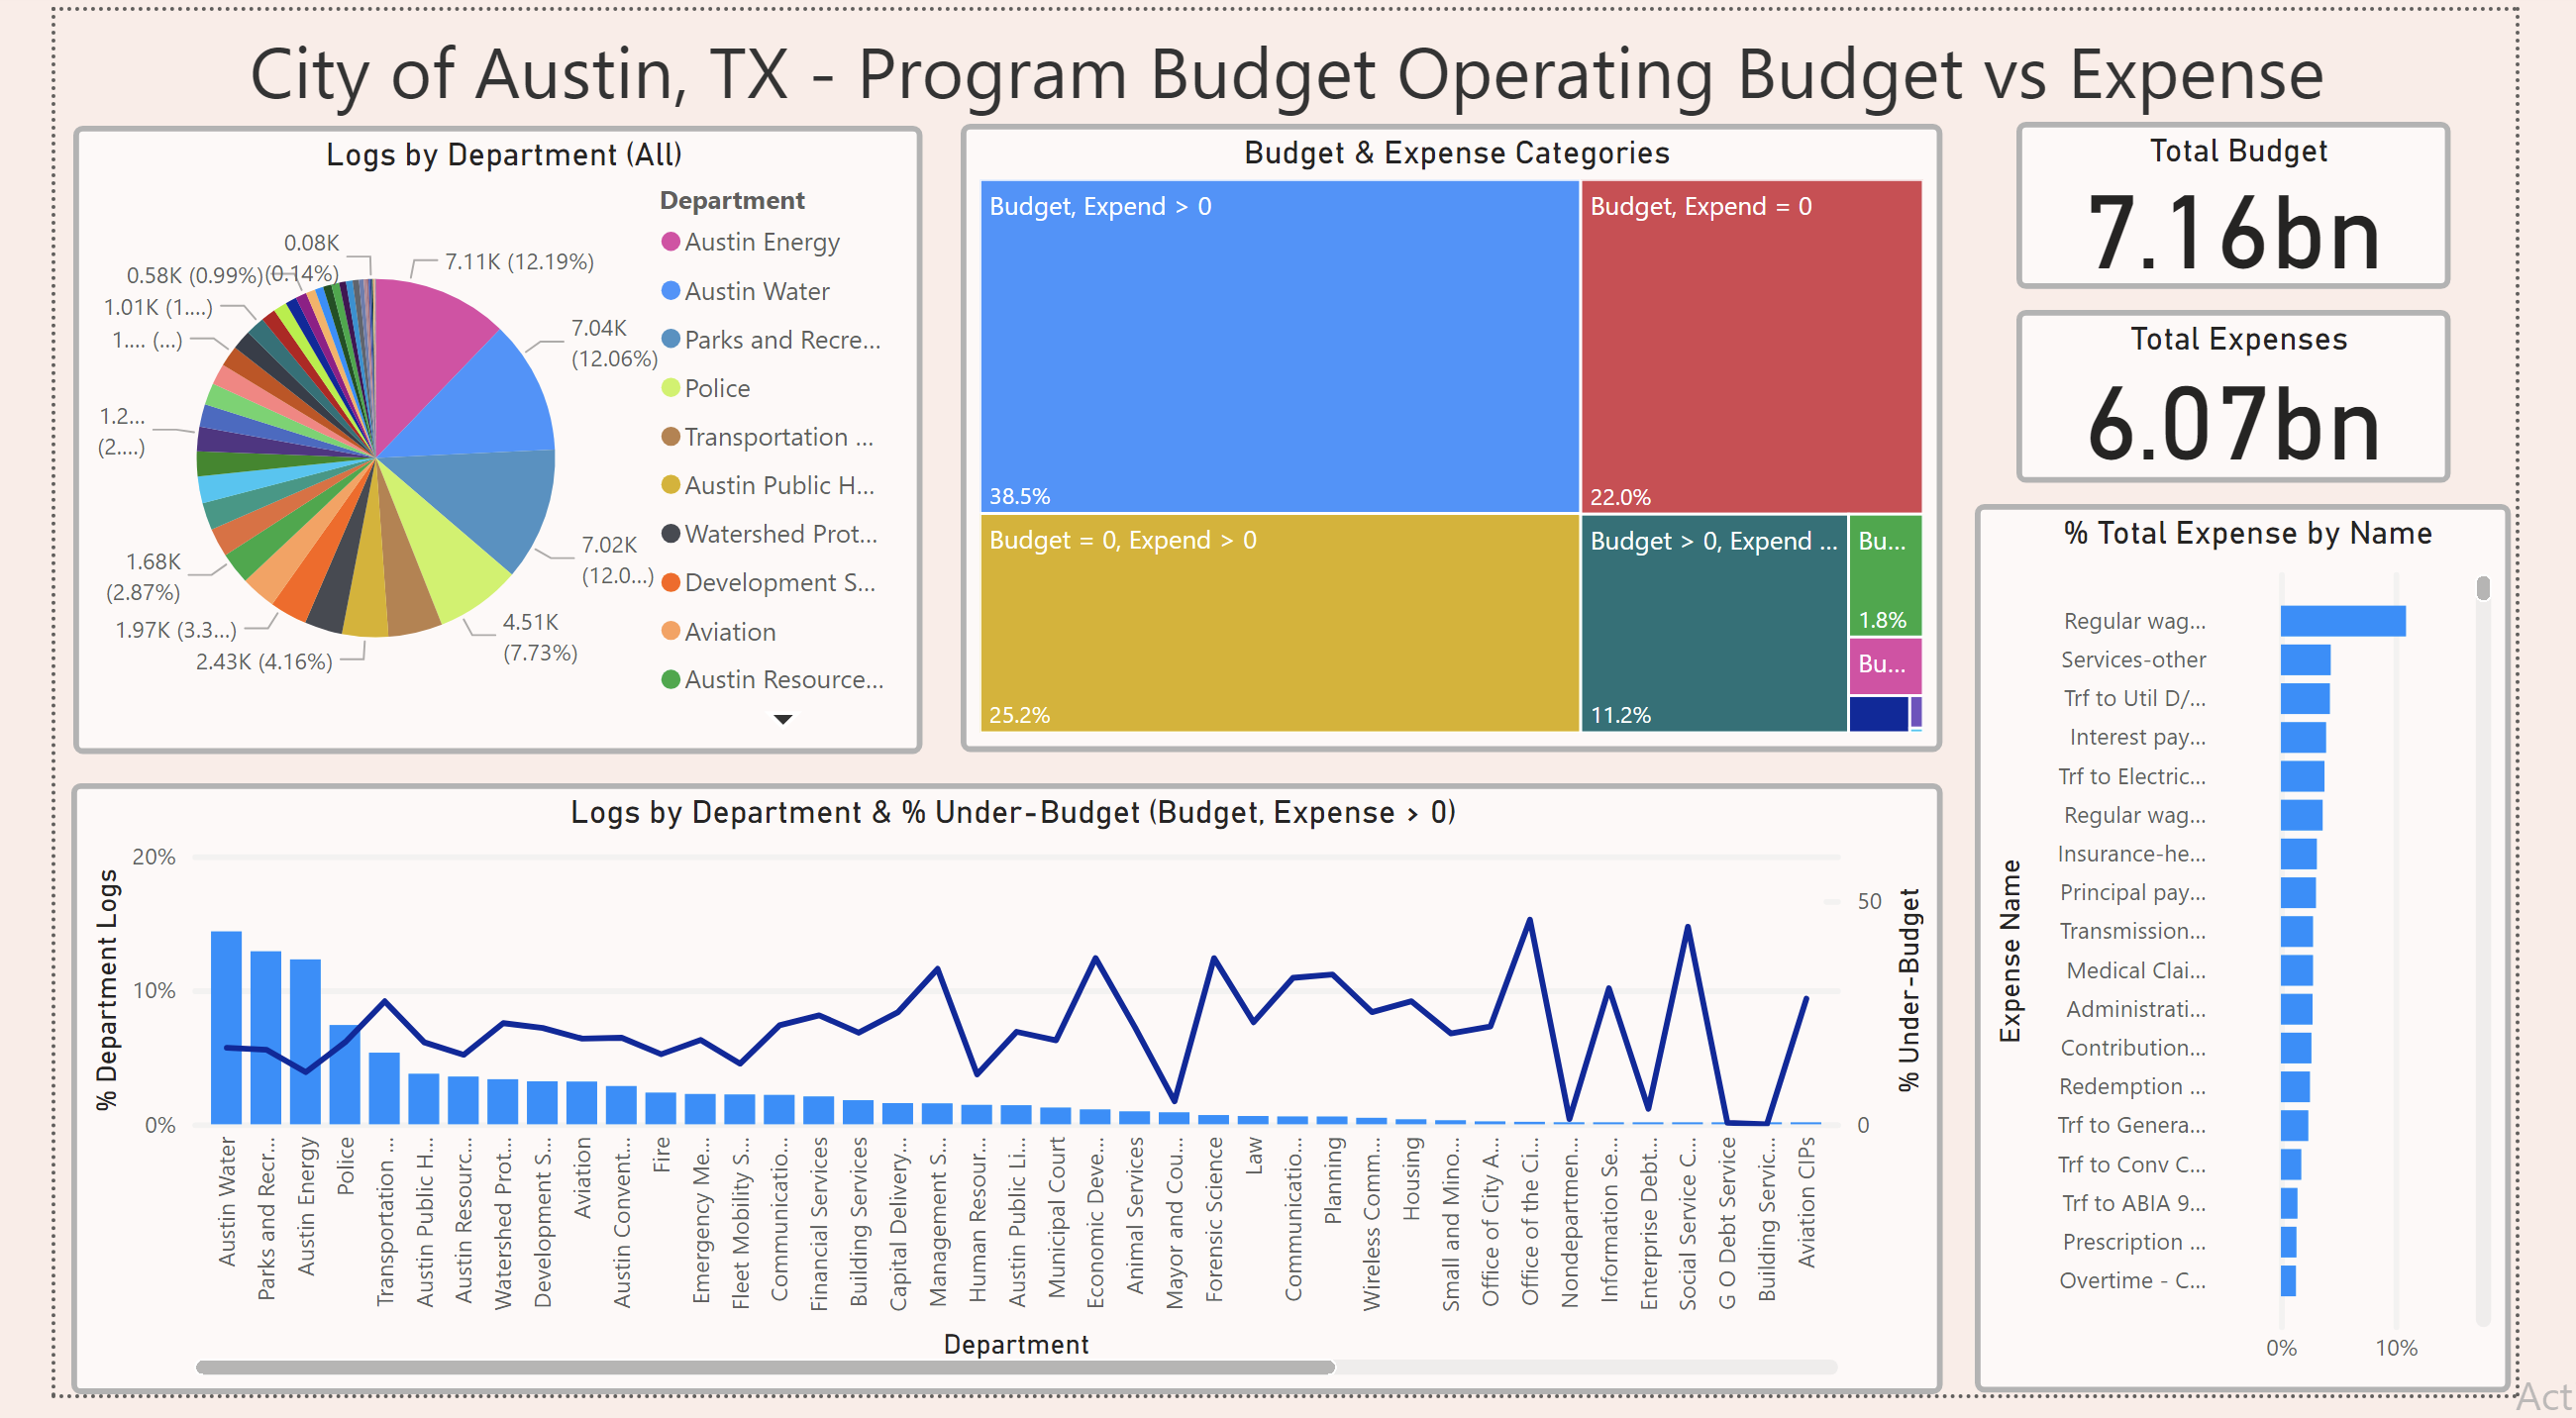

This screenshot's page, from the dashboard's own definition file:
{"tool":"powerbi","page":{"name":"Mini-Dashboard","canvas":[1280,720],"ordinal":0},"visuals":[{"type":"pieChart","title":"Logs by Department (All)","fields":{"Category":["AustinTXData budget.DEPARTMENT_NAME"],"Y":["CountNonNull(AustinTXData budget.DEPARTMENT_NAME)"]},"box":[9,60,442,327],"z":0},{"type":"treemap","title":"Budget & Expense Categories","fields":{"Group":["AustinTXData budget.BudgetExpendCateg"],"Values":["CountNonNull(AustinTXData budget.BudgetExpendCateg)"]},"box":[471,59,511,327],"z":1000},{"type":"barChart","title":"% Total Expense by Name","fields":{"Category":["AustinTXData budget.EXPENSE_NAME"],"Y":["Divide(Sum(AustinTXData budget.EXPENDITURES), ScopedEval(Sum(AustinTXData budget.EXPENDITURES), []))"]},"box":[998.8,256.2,278.8,462.5],"z":2000},{"type":"lineStackedColumnComboChart","title":"Logs by Department & % Under-Budget  (Budget, Expense > 0)","fields":{"Category":["AustinTXData budget.DEPARTMENT_NAME"],"Y2":["AustinTXData budget.PercUnderBudget"],"Y":["Divide(CountNonNull(AustinTXData budget.DEPARTMENT_NAME), ScopedEval(CountNonNull(AustinTXData budget.DEPARTMENT_NAME), "]},"box":[8,402,974,318],"z":3000},{"type":"card","title":"Total Budget","fields":{"Values":["AustinTXData budget.TotalBudget"]},"box":[1021,58,226,87],"z":4000},{"type":"card","title":"Total Expenses","fields":{"Values":["Sum(AustinTXData budget.EXPENDITURES)"]},"box":[1021,156,226,90],"z":5000},{"type":"textbox","box":[82.5,0,1117.5,63],"z":5001}]}

Visuals, with their boxes in screenshot pixels (x1, y1, x2, y2), scaled from the page's 1280x720 canvas onto the 2576x1418 screenshot:
"Logs by Department (All)" pieChart: [18,118,907,762]
"Budget & Expense Categories" treemap: [948,116,1976,760]
"% Total Expense by Name" barChart: [2010,505,2571,1415]
"Logs by Department & % Under-Budget  (Budget, Expense > 0)" lineStackedColumnComboChart: [16,792,1976,1417]
"Total Budget" card: [2055,114,2510,285]
"Total Expenses" card: [2055,307,2510,484]
textbox: [166,0,2415,124]
